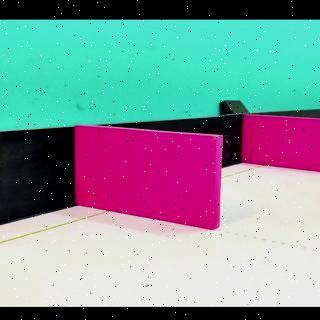xparking: (82, 139, 214, 227), (248, 121, 318, 171)
